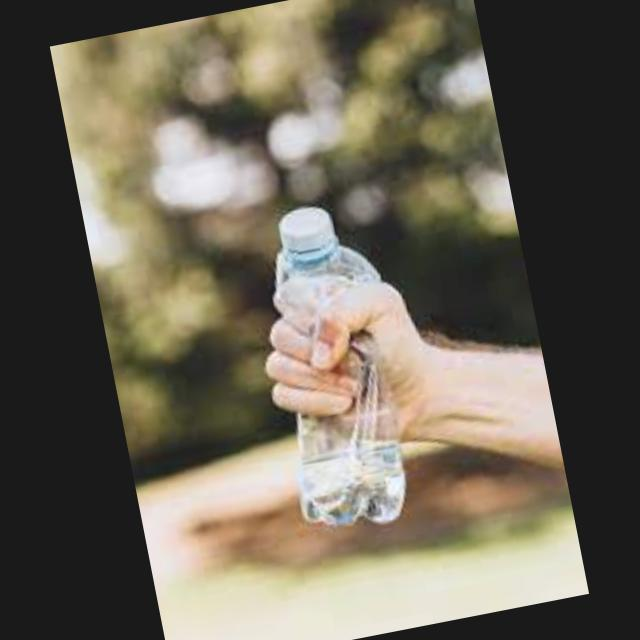trash: (224, 176, 447, 552)
